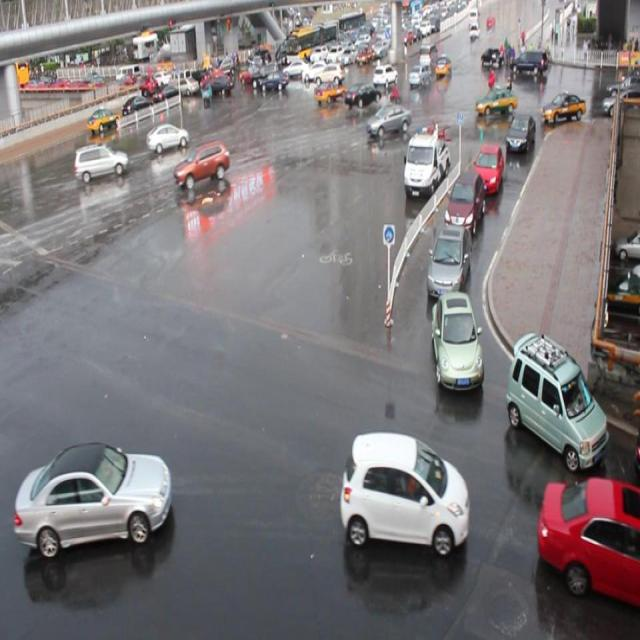bus: (402, 128, 448, 198)
car: (15, 438, 172, 552), (341, 431, 469, 553), (503, 327, 609, 472), (538, 475, 640, 607), (429, 288, 483, 390), (425, 222, 471, 298), (443, 169, 483, 234), (174, 143, 229, 183), (472, 143, 503, 191), (366, 103, 411, 136), (473, 85, 517, 116), (504, 111, 535, 154), (146, 121, 189, 152), (344, 83, 381, 108), (314, 78, 347, 102)
truck: (75, 143, 129, 179)
